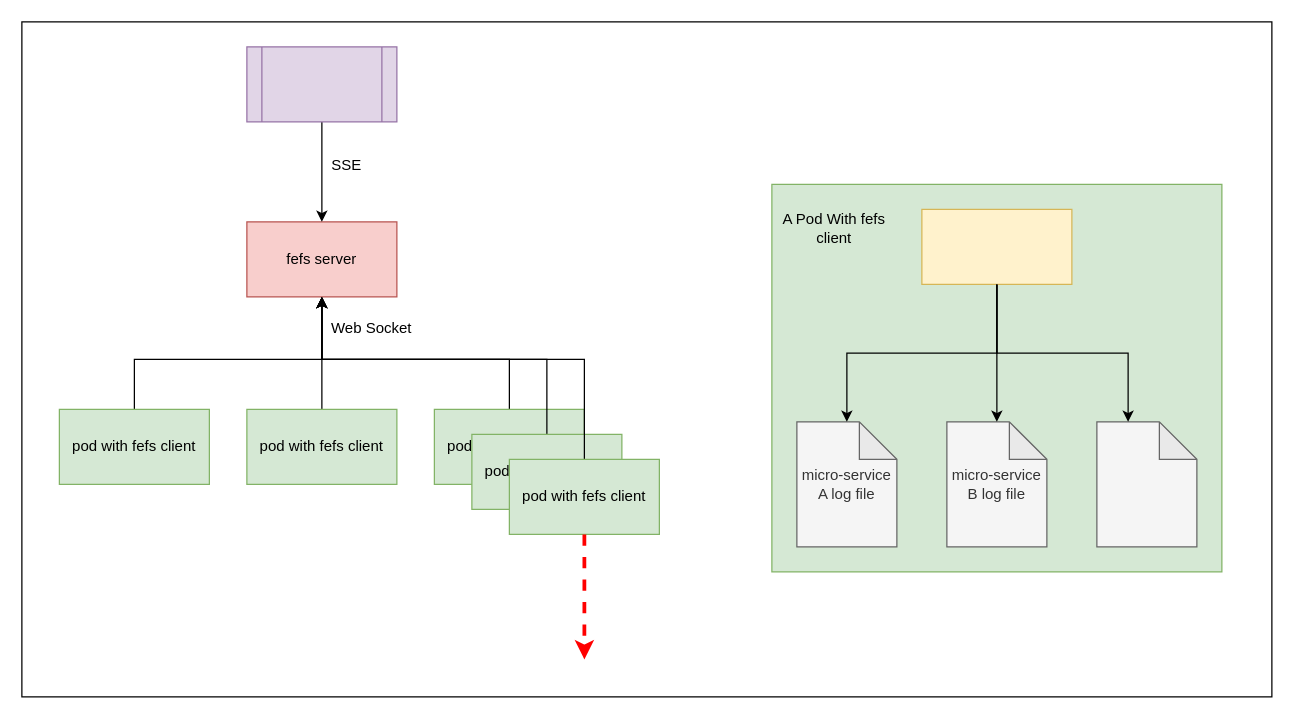
Some shapes in this 1294 by 719 pixel diagram are drawn without their labels. Each missing label, with the box of its shape:
fefs client: (921, 208, 1072, 284)
fefs front-end: (246, 46, 397, 122)
